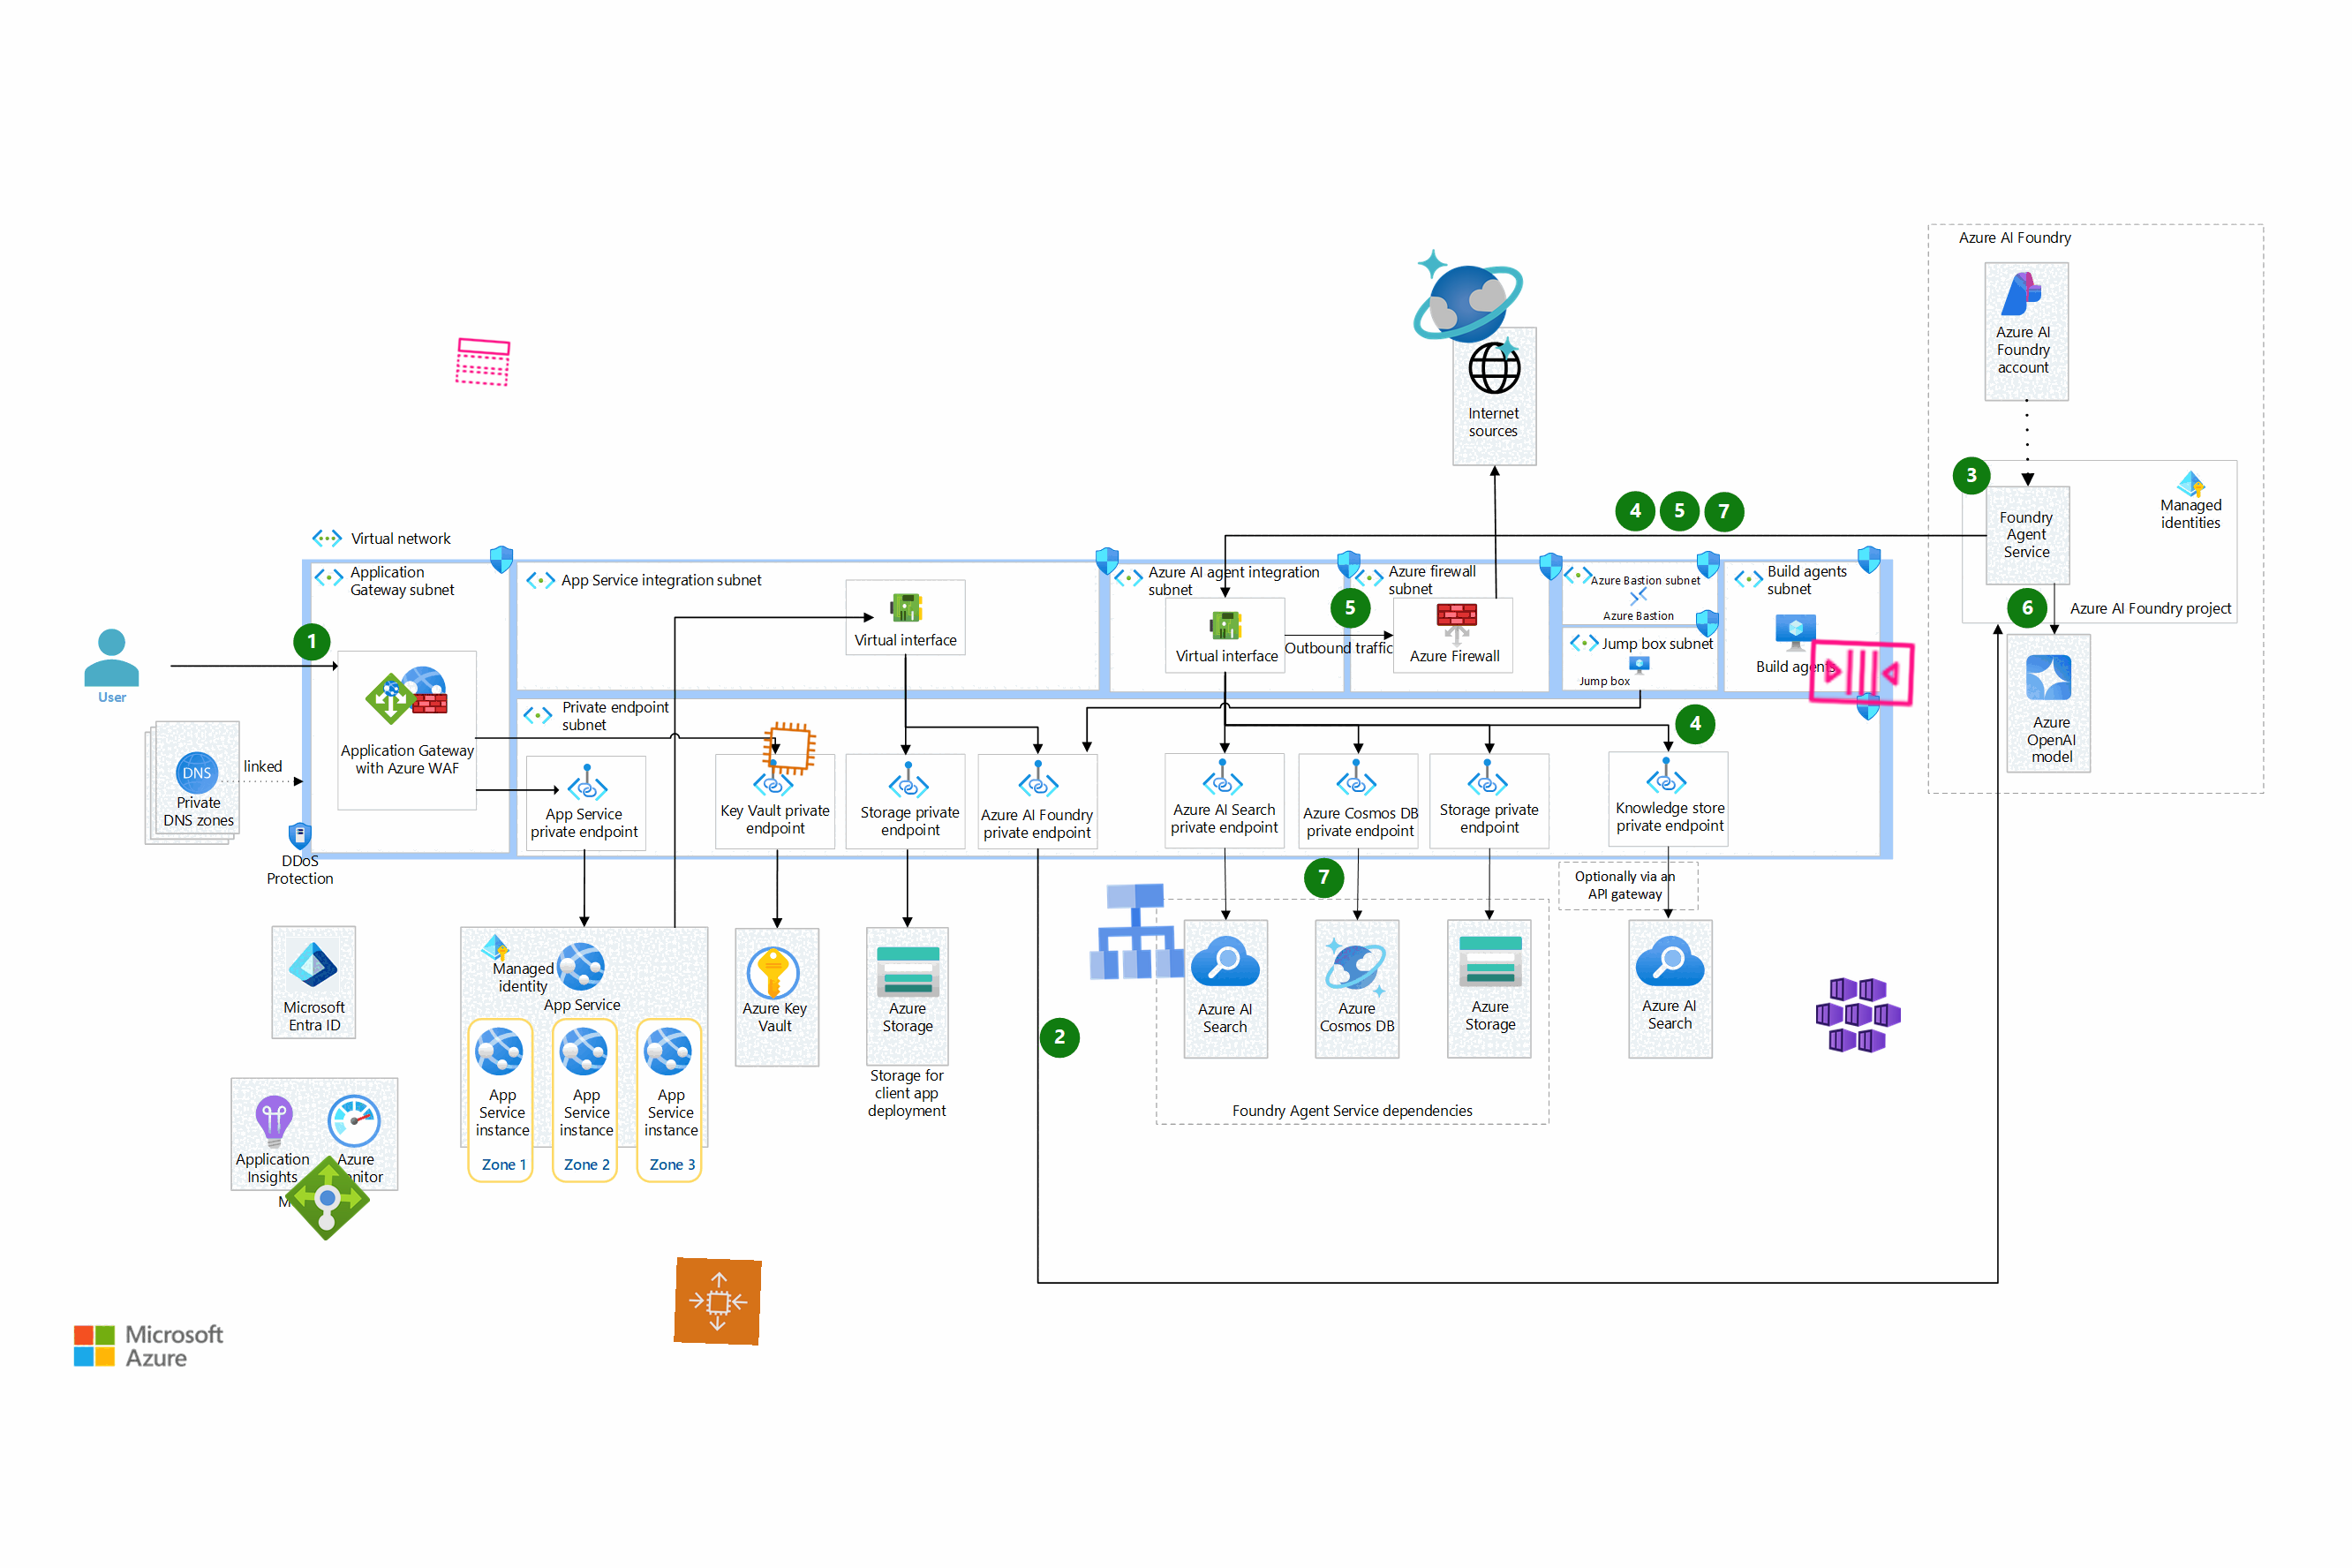aws_amazon_ec2_auto_scaling: (674, 1256, 761, 1346)
aws_ec2_instance: (758, 717, 821, 779)
aws_simple_notification_service_topic: (451, 331, 514, 394)
aws_simple_queue_service_queue: (1802, 612, 1922, 731)
azure_cosmos_db: (1409, 245, 1528, 364)
azure_kubernetes_services: (1815, 971, 1902, 1057)
azure_load_balancers: (282, 1153, 373, 1242)
gcp_cloud_load_balancing: (1078, 873, 1195, 990)
